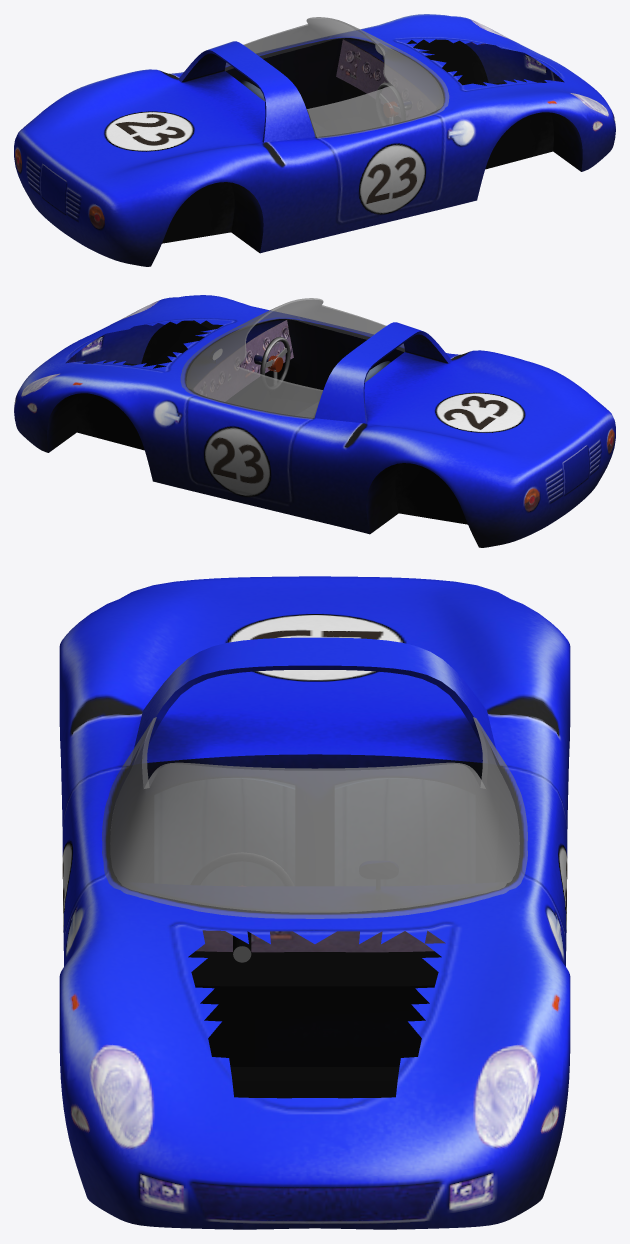
File: CCoche.obj
3 renders of one model, top to bottom at view 1: azimuth 30°, elevation 25°; view 2: azimuth 150°, elevation 25°; view 3: azimuth 270°, elevation 25°, orthographic. The views are drawn at different scales.
Visible parts, largest first — view 1: CCoche001, CCoche002; view 2: CCoche001, CCoche002; view 3: CCoche001, CCoche002.
Part boxes in pixels (x1,y1,x2,y2): CCoche001: [14, 14, 615, 266]; CCoche002: [225, 17, 449, 138]; CCoche001: [14, 295, 615, 547]; CCoche002: [180, 298, 404, 419]; CCoche001: [59, 576, 570, 1229]; CCoche002: [102, 717, 527, 918].
Size of the model in its own units: 17.35 by 4.31 by 7.19.
